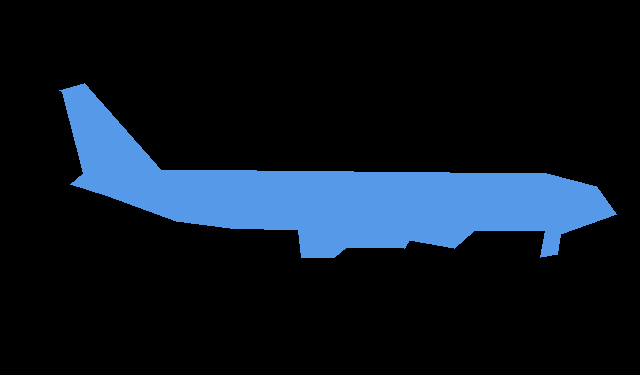Airplane: (59, 83, 616, 257)
